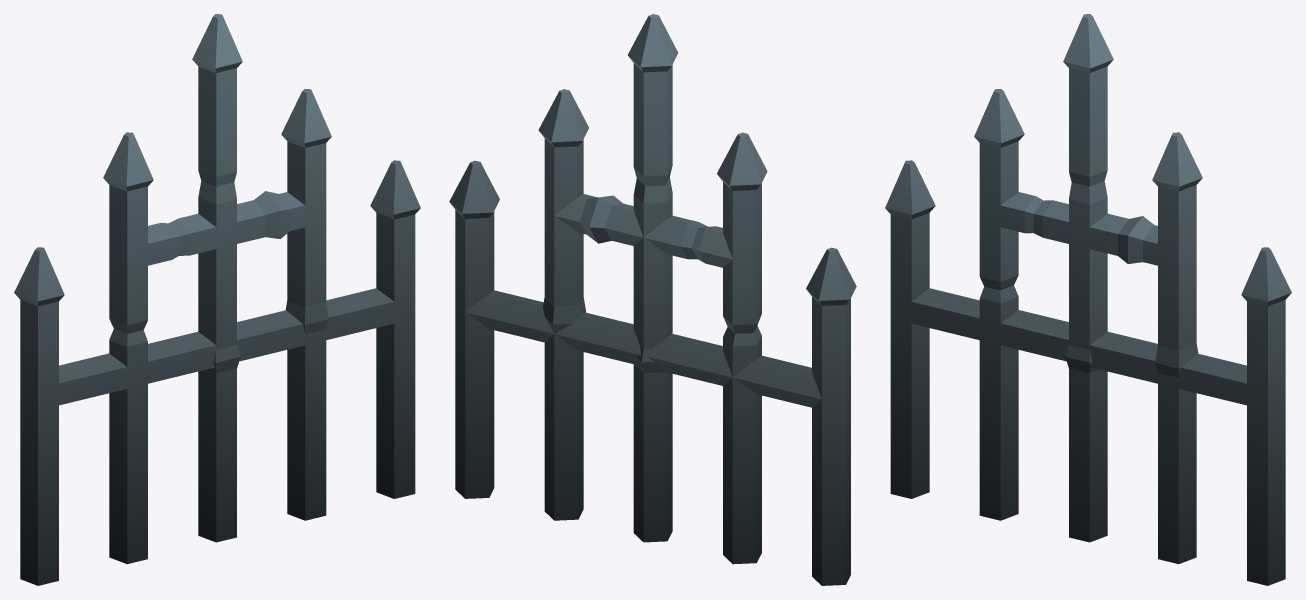
File: IronFence.fbx
3 views of the same model, side by side, from view 1: azimuth 30°, elevation 25°; view 2: azimuth 150°, elevation 25°; view 3: azimuth 330°, elevation 25° (orthographic).
Visible parts, largest first — view 1: IronFenceMesh; view 2: IronFenceMesh; view 3: IronFenceMesh.
Boxes of the visible parts, bbox=[...] form: IronFenceMesh: bbox=[14, 14, 420, 585]; IronFenceMesh: bbox=[449, 14, 856, 585]; IronFenceMesh: bbox=[885, 14, 1291, 585].
Bounding box in the file's own units: 450 × 556 × 47.26.
